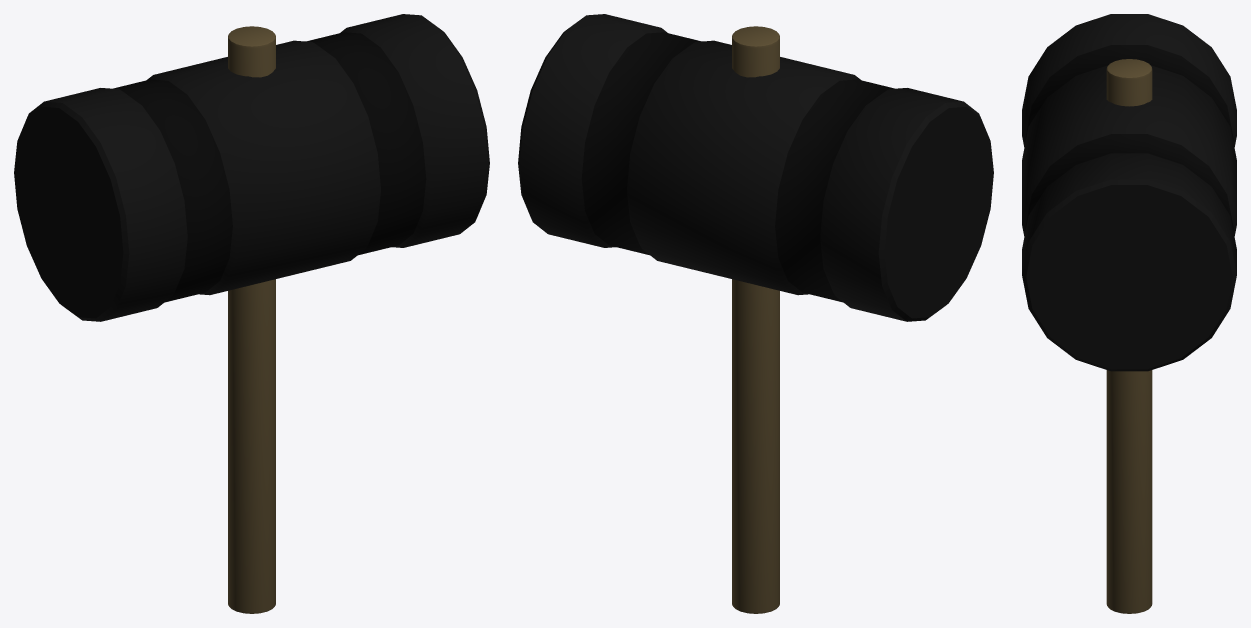
Rendered from Mario's Hammer.fbx.
3 renders of one model, left to right at view 1: azimuth 30°, elevation 25°; view 2: azimuth 150°, elevation 25°; view 3: azimuth 270°, elevation 25°, orthographic. The views are drawn at different scales.
Visible parts, largest first — view 1: Cylinder001; view 2: Cylinder001; view 3: Cylinder001.
Boxes of the visible parts, x1,y1,x2,y2 form: Cylinder001: (14, 14, 489, 613); Cylinder001: (518, 14, 993, 613); Cylinder001: (1022, 14, 1236, 613).
Size of the model in its own units: 146 by 217 by 78.7.
